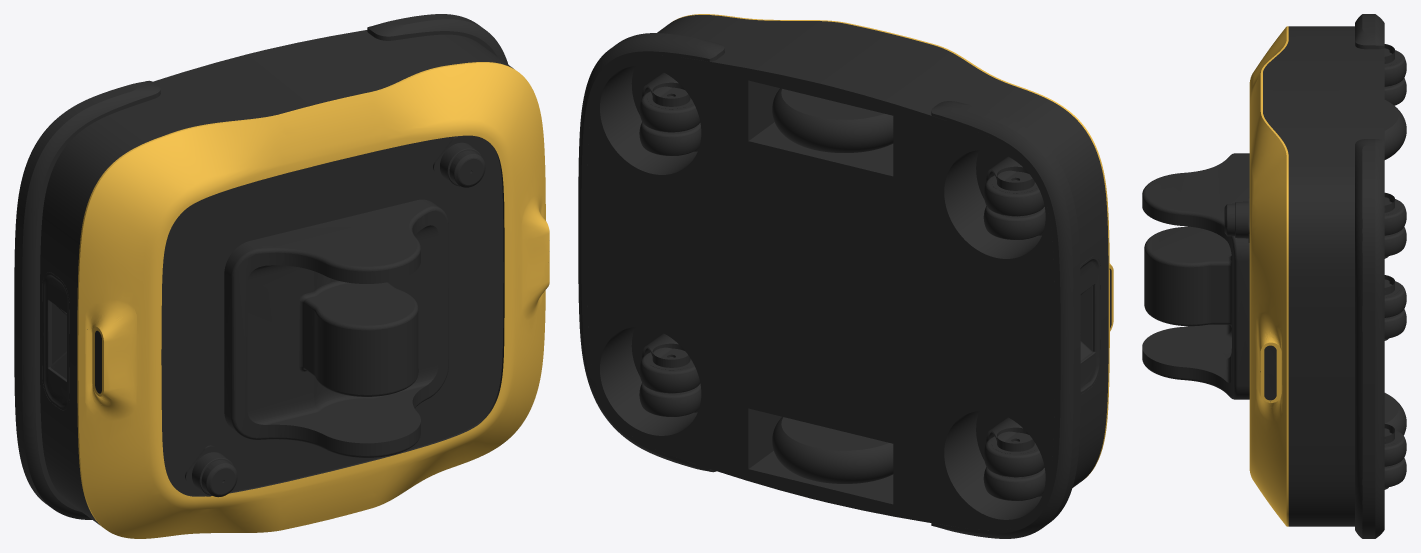
3 renders of one model, left to right at view 1: azimuth 30°, elevation 25°; view 2: azimuth 150°, elevation 25°; view 3: azimuth 270°, elevation 25°, orthographic. The views are drawn at different scales.
Parts seen in each view (by area): view 1: base_link-mesh; view 2: base_link-mesh; view 3: base_link-mesh.
Part boxes in pixels (left/top/right/bottom): base_link-mesh: left=14, top=14, right=549, bottom=538; base_link-mesh: left=578, top=14, right=1113, bottom=538; base_link-mesh: left=1142, top=14, right=1406, bottom=538.
Size of the model in its own units: 0.6826 by 0.5589 by 0.357.
Materials: 1 (1 with a texture image).
